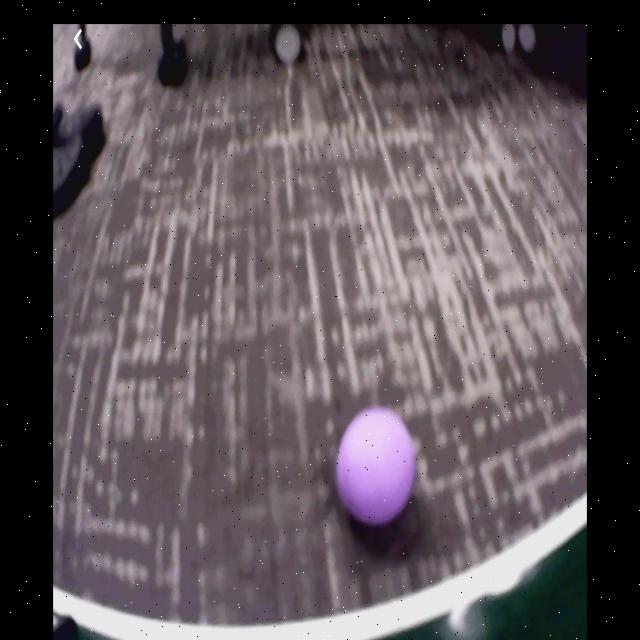ball: (339, 410, 416, 524)
